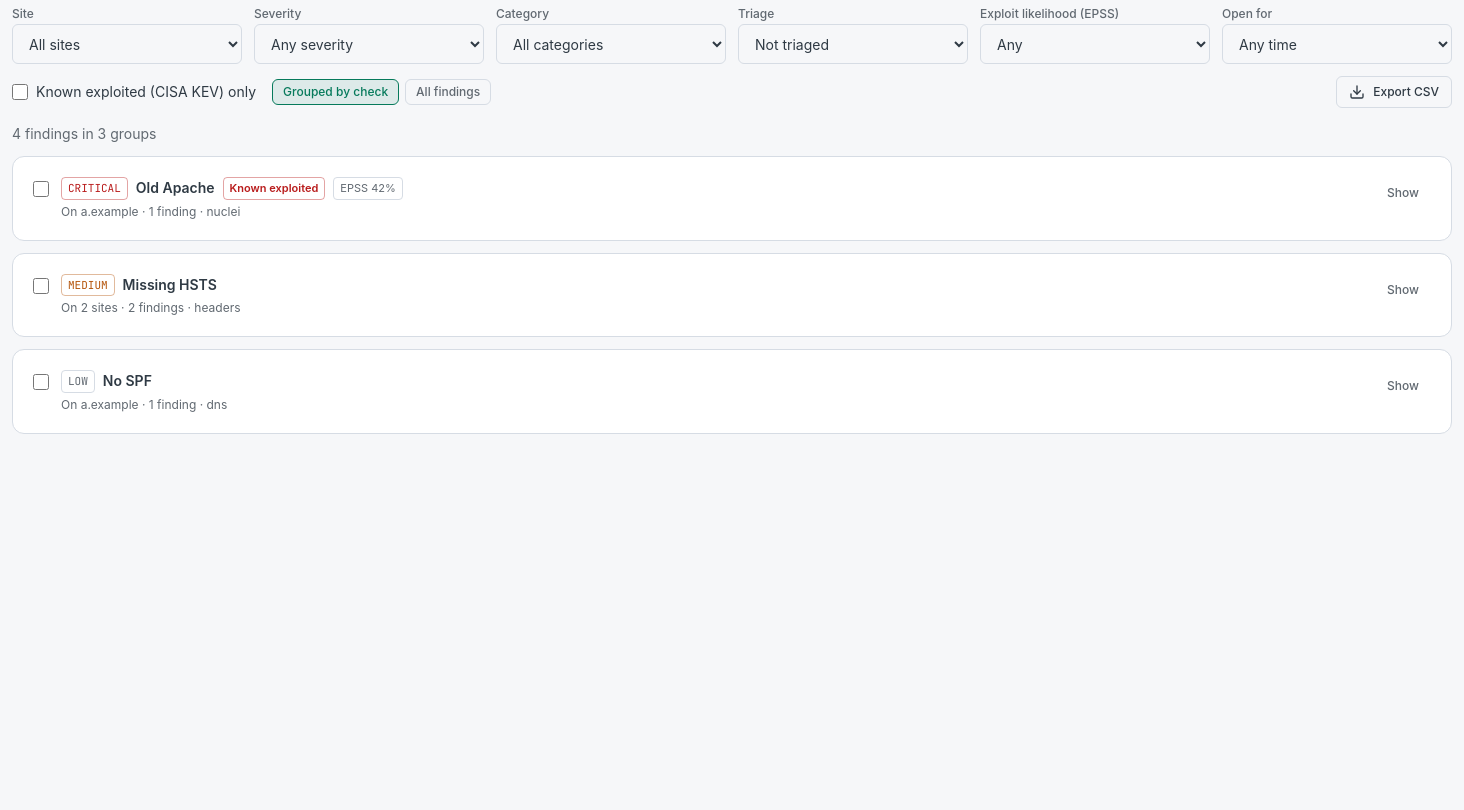
Test: FindingsExplorer › offers false positive, toggles the action closed and clears the selection
Expected: the heading "Old Apache" is shown, top-left (136, 178), bottom-right (215, 198)
Click the checkbox named "Select all 1 findings for Old Apache" at (41, 189), box top-left (33, 181), bottom-right (49, 197)
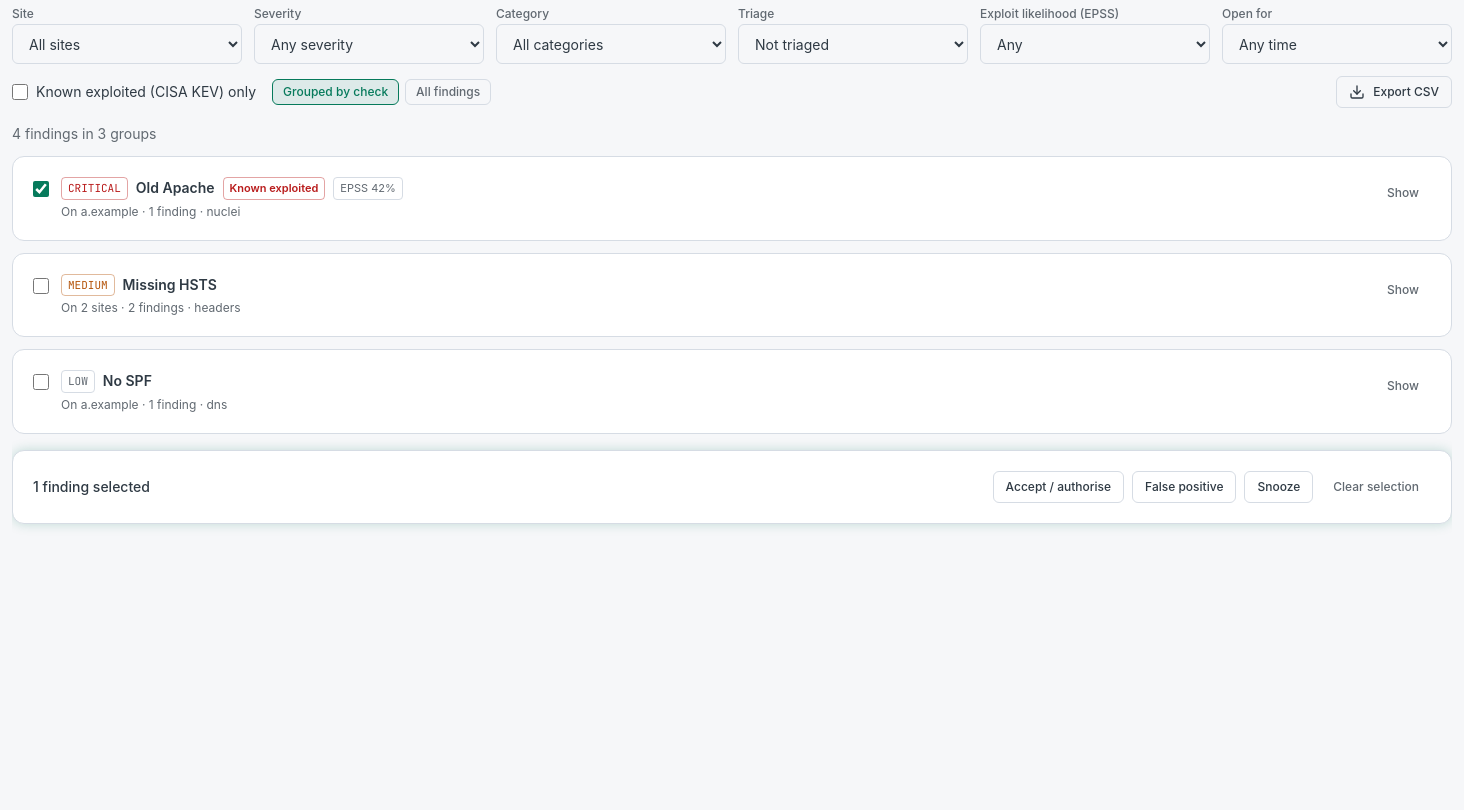
Click the button "False positive" at (1184, 486), box top-left (1132, 470), bottom-right (1236, 502)
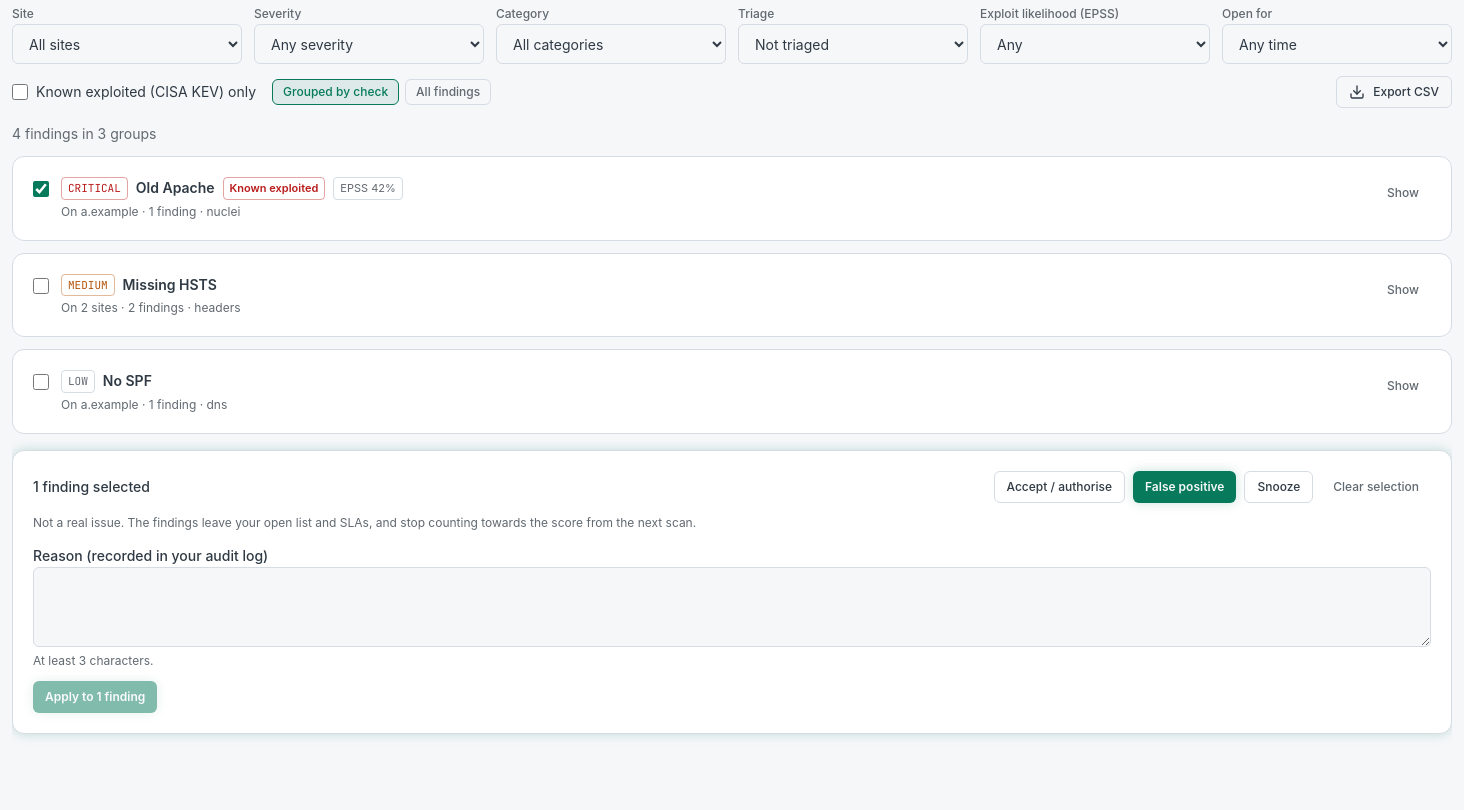
Expected: the text "stop counting towards the score" is shown, top-left (33, 514), bottom-right (696, 530)
Click the button "False positive" at (1185, 486), box top-left (1133, 470), bottom-right (1236, 502)
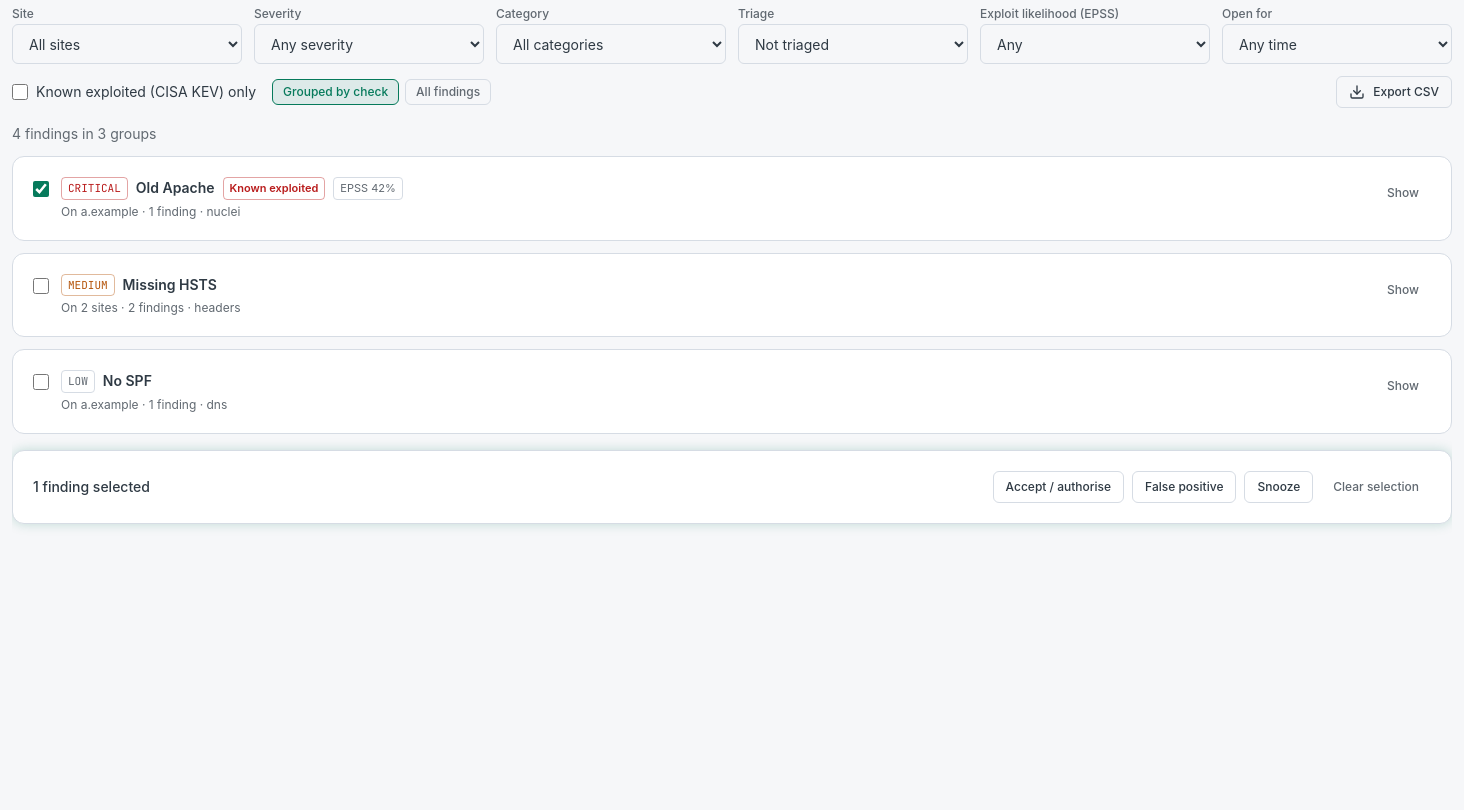
Expected: the label labelled "Reason" is gone
Click the button "Accept / authorise" at (1058, 486), box top-left (993, 470), bottom-right (1124, 502)
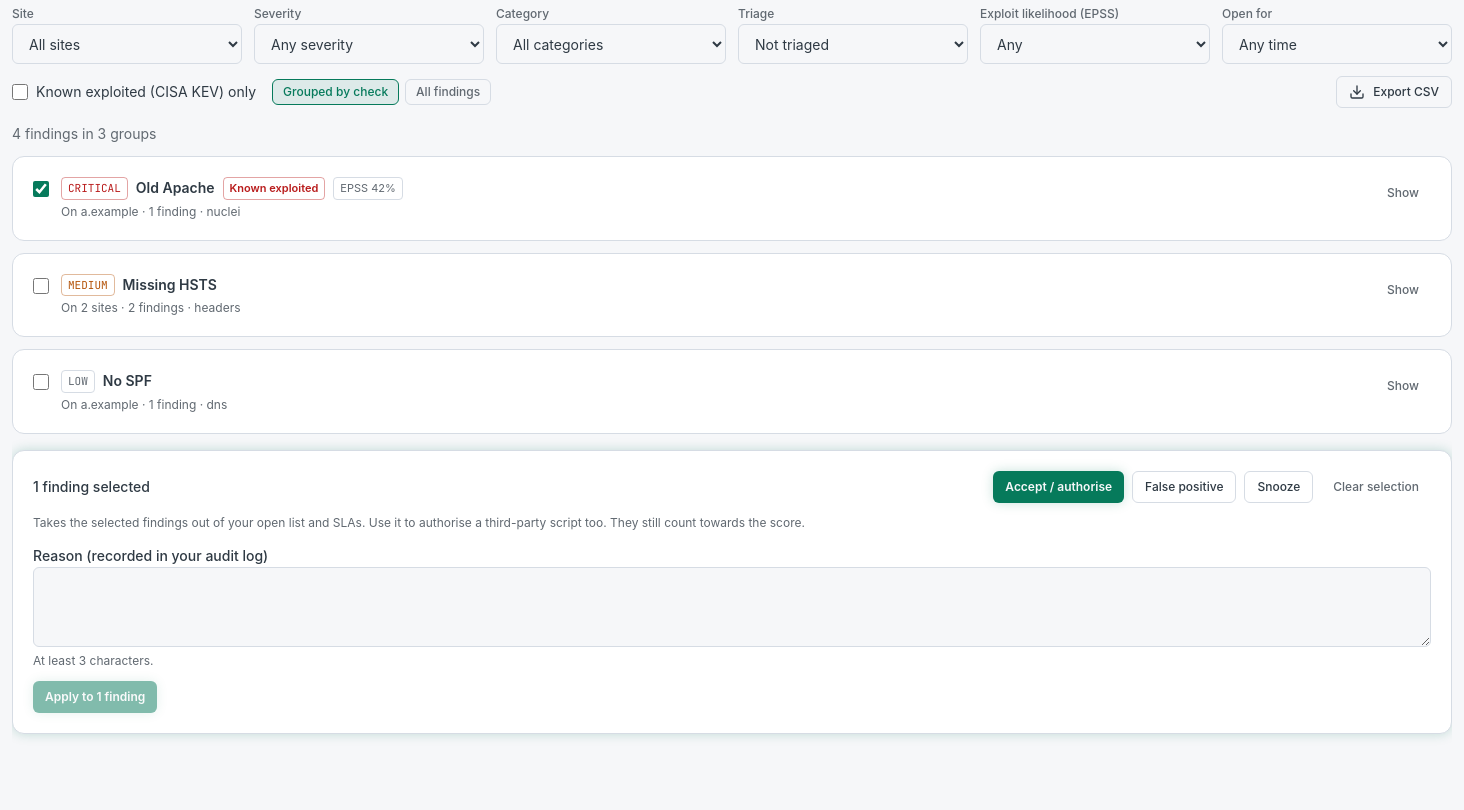
Expected: the text "authorise a third-party script" is shown, top-left (33, 514), bottom-right (805, 530)
Click the button "Clear selection" at (1376, 486), box top-left (1321, 470), bottom-right (1431, 502)
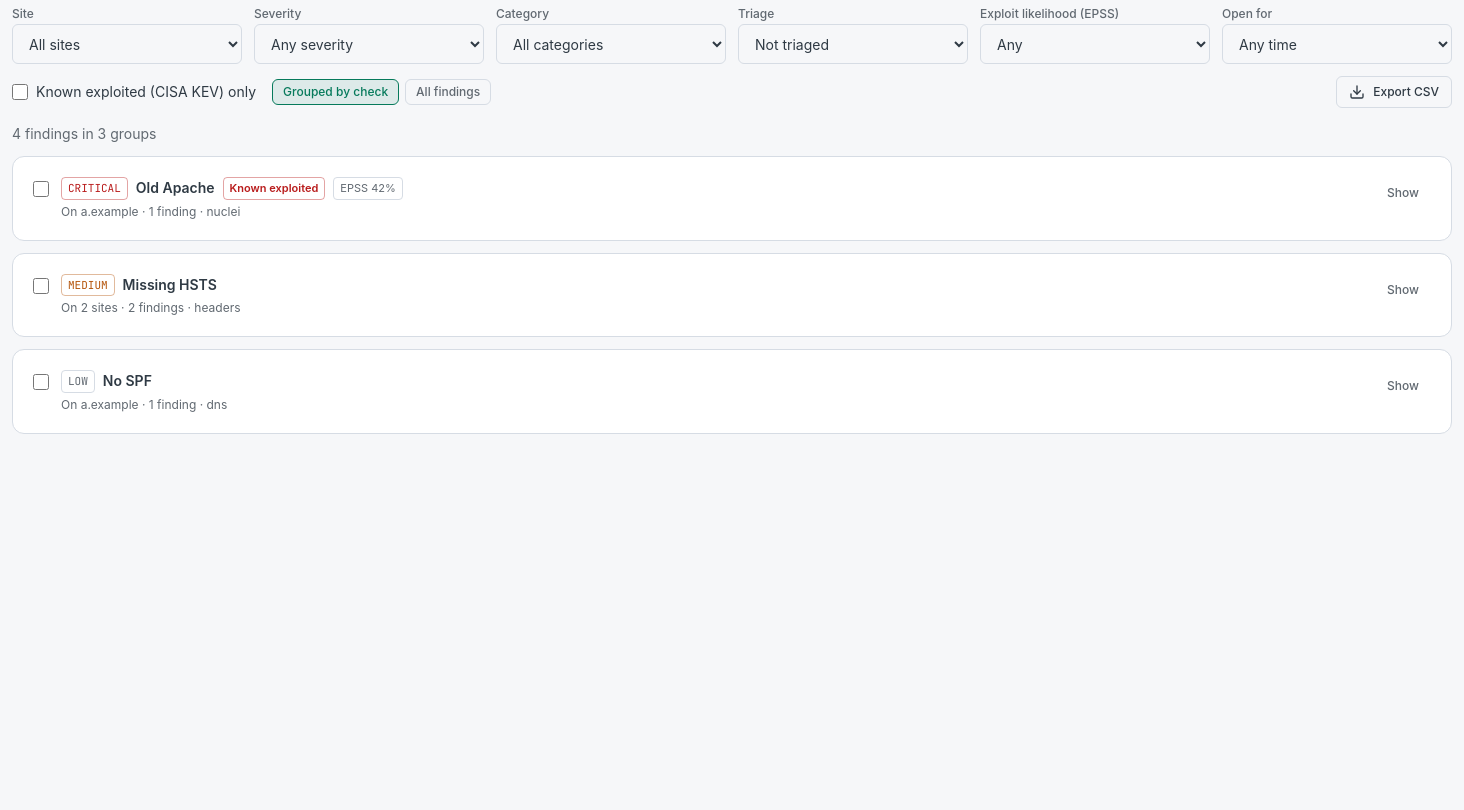
Expected: the text "selected" is gone
